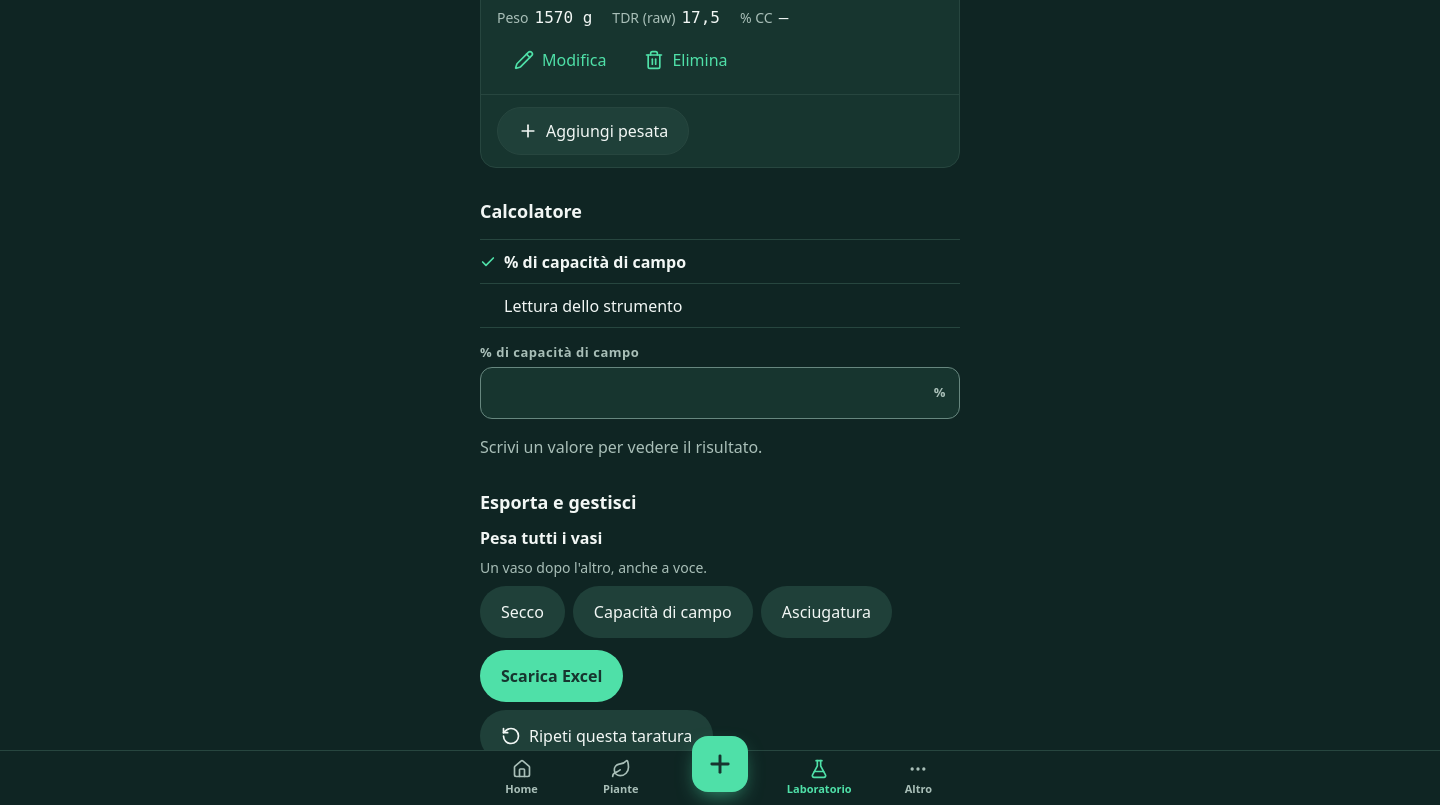
SessioneTaratura › un vaso senza secco non sposta la curva media del calcolatore
(page scrolled)
Type "60" into the field labelled "% di capacità di campo" at (720, 393), box x1=480 y1=367 x2=960 y2=419
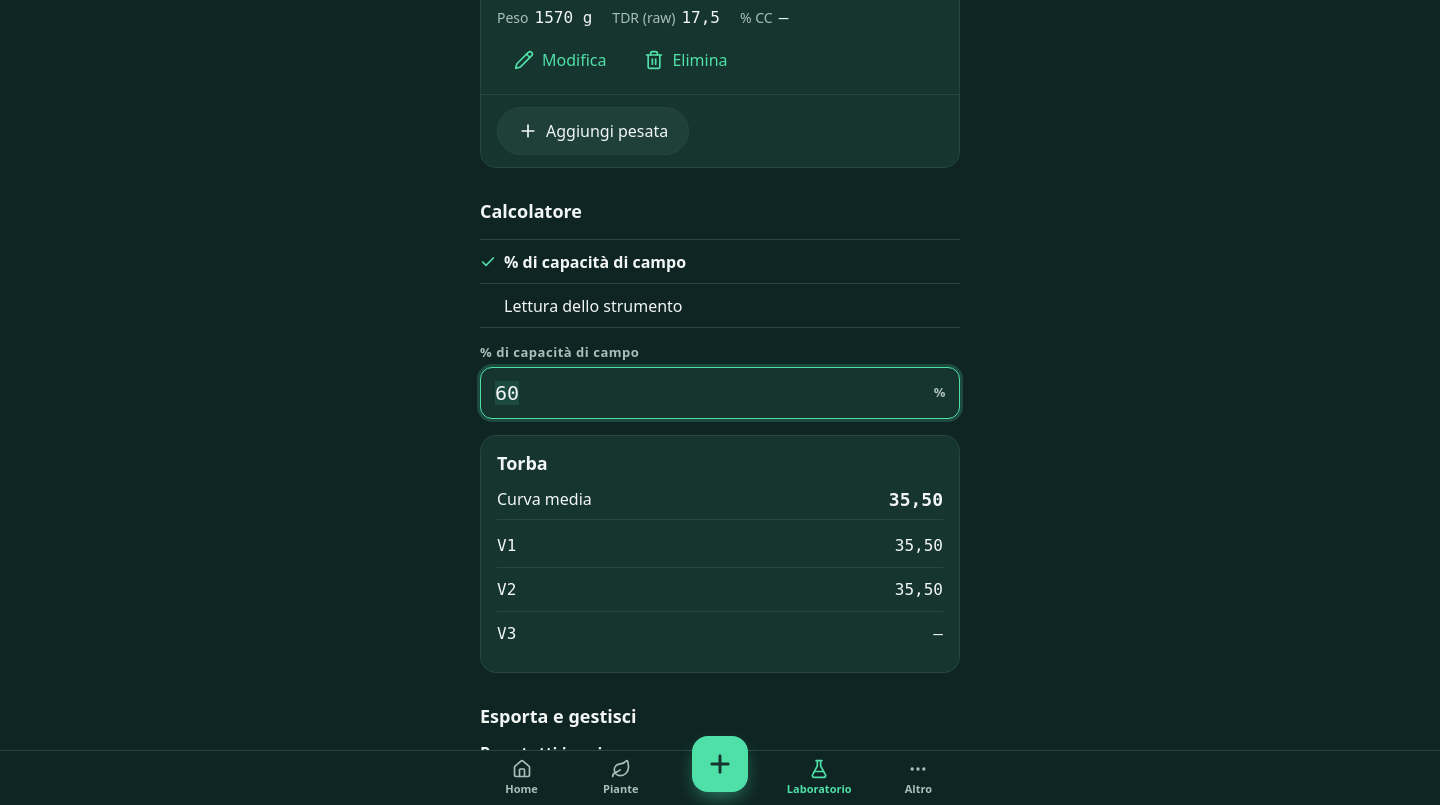
Check: the text "Curva media" shows "35,50", box x1=889 y1=489 x2=943 y2=510
Check: the list item "V1" shows "35,50", box x1=895 y1=536 x2=943 y2=555
Check: the list item "V3" shows "—", box x1=933 y1=624 x2=943 y2=643
